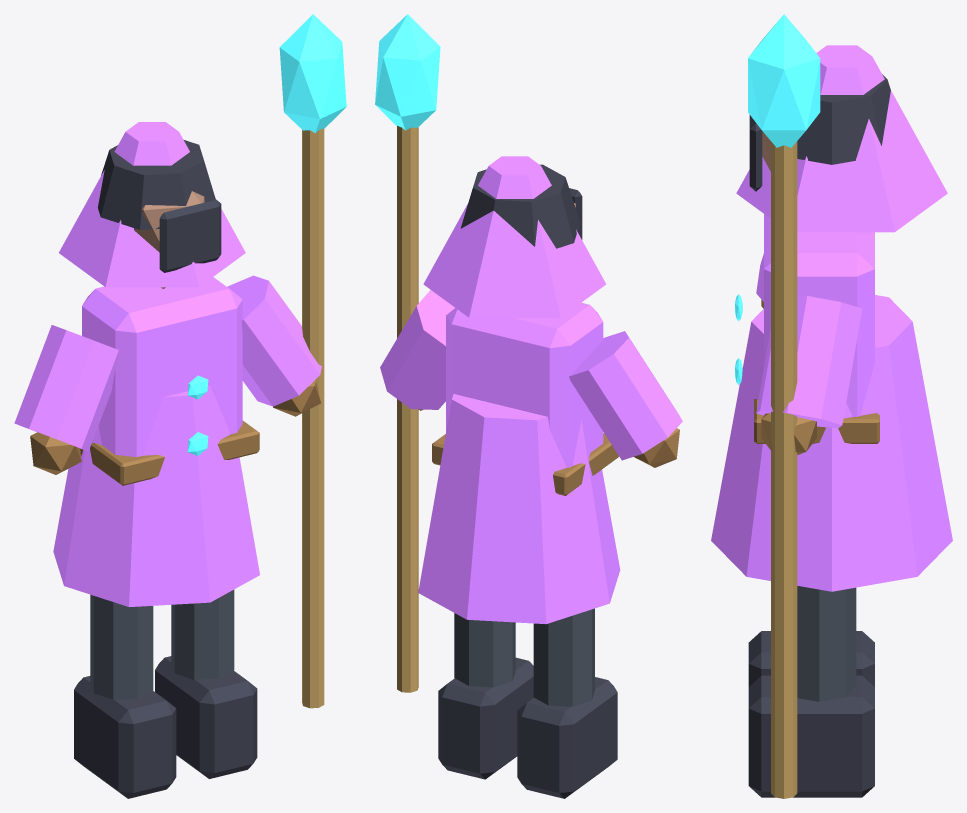
Rendered from orion-prisma.fbx.
The picture shows the model from 3 angles, left to right: view 1: azimuth 30°, elevation 25°; view 2: azimuth 150°, elevation 25°; view 3: azimuth 270°, elevation 25°; orthographic projection. The views are drawn at different scales.
Visible parts, largest first — view 1: coat.001, torso.001, staff, hood, boot.002, boot.003, sleeve.002, sleeve.003, leg.002, staff prism, hair.001, leg.003 (+5 smaller); view 2: coat.001, hood, torso.001, staff, boot.002, sleeve.002, boot.003, staff prism, sleeve.003, leg.002, hair.001, leg.003 (+2 smaller); view 3: coat.001, staff, hood, boot.003, torso.001, sleeve.003, staff prism, leg.003, hair.001, boot.002, belt.001, glove.001 (+1 smaller).
Boxes of the visible parts, bbox=[...] form: coat.001: bbox=[53, 386, 259, 606]; torso.001: bbox=[82, 277, 242, 457]; staff: bbox=[302, 128, 324, 708]; hood: bbox=[59, 122, 245, 287]; boot.002: bbox=[74, 676, 176, 798]; boot.003: bbox=[155, 656, 257, 778]; sleeve.002: bbox=[14, 325, 119, 451]; sleeve.003: bbox=[227, 275, 321, 406]; leg.002: bbox=[90, 594, 153, 699]; staff prism: bbox=[279, 14, 346, 133]; hair.001: bbox=[98, 140, 215, 229]; leg.003: bbox=[171, 589, 234, 679]; coat.001: bbox=[418, 394, 620, 624]; hood: bbox=[423, 156, 606, 317]; torso.001: bbox=[446, 302, 603, 467]; staff: bbox=[397, 126, 418, 692]; boot.002: bbox=[517, 677, 617, 798]; sleeve.002: bbox=[569, 331, 682, 460]; boot.003: bbox=[438, 657, 533, 779]; staff prism: bbox=[375, 14, 440, 130]; sleeve.003: bbox=[380, 290, 454, 409]; leg.002: bbox=[533, 608, 594, 706]; hair.001: bbox=[460, 164, 580, 248]; leg.003: bbox=[454, 613, 515, 687]; coat.001: bbox=[711, 295, 952, 591]; staff: bbox=[771, 141, 797, 798]; hood: bbox=[736, 45, 947, 232]; boot.003: bbox=[748, 675, 874, 797]; torso.001: bbox=[764, 214, 874, 416]; sleeve.003: bbox=[756, 295, 862, 428]; staff prism: bbox=[748, 14, 820, 147]; leg.003: bbox=[797, 586, 856, 701]; hair.001: bbox=[797, 74, 890, 164]; boot.002: bbox=[748, 631, 874, 686]; belt.001: bbox=[754, 399, 879, 443]; glove.001: bbox=[761, 413, 816, 454].
Bounding box in the file's own units: 80.77 × 181 × 48.
